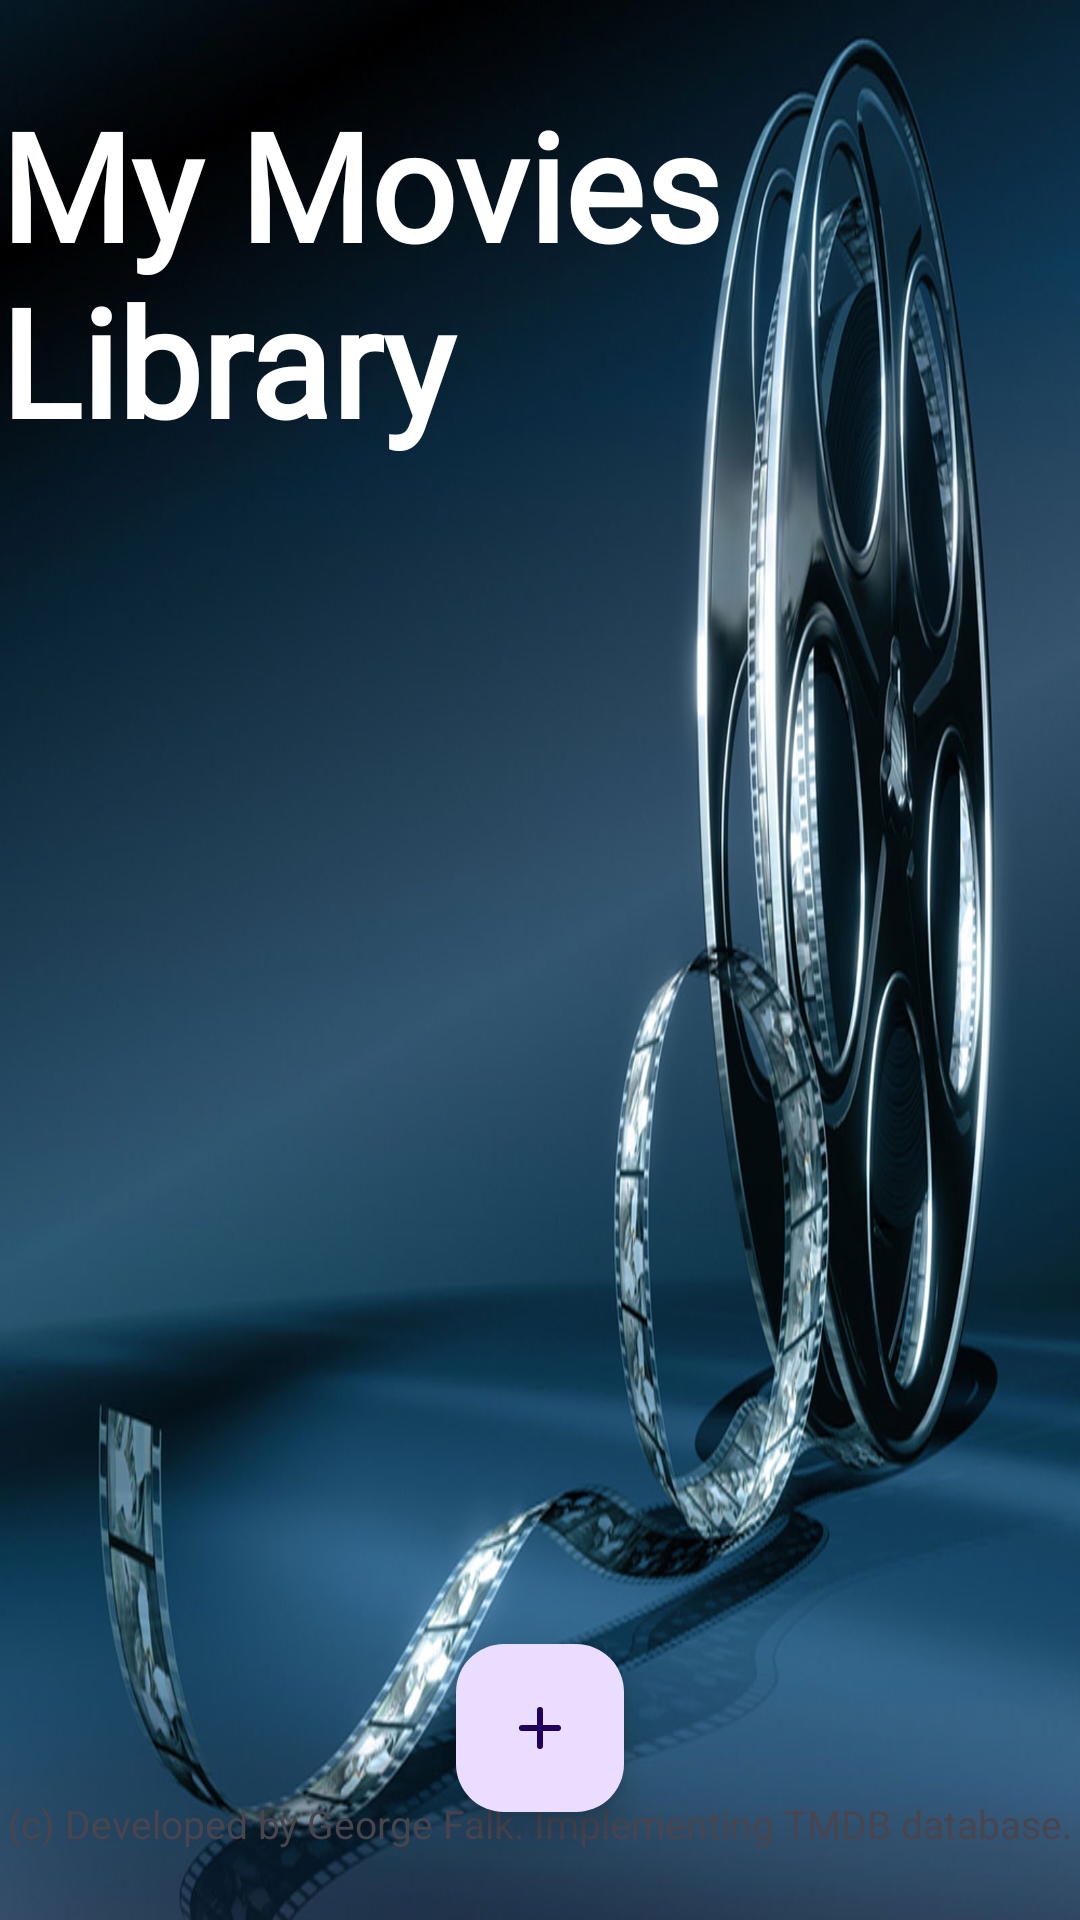

Where to tap for icons on this 1080px×1920px app screen, as (x,y):
add: (540,1728)
